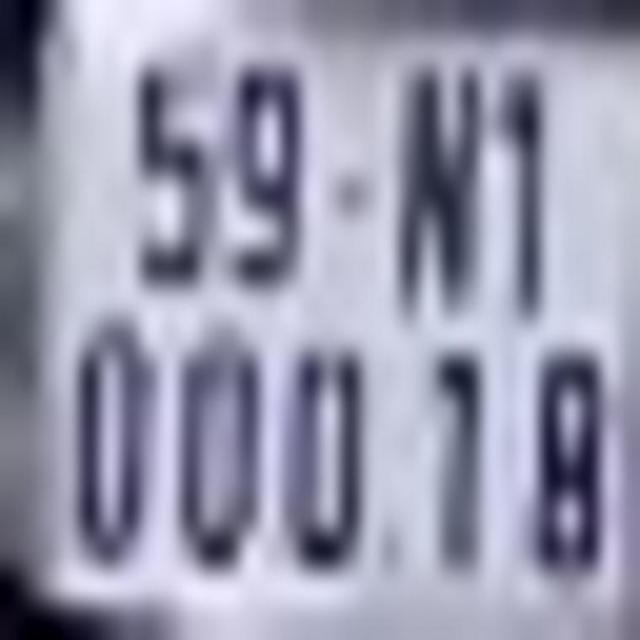0: (72, 312, 156, 554), (175, 326, 260, 564), (284, 338, 368, 567)
1: (493, 63, 555, 312), (431, 343, 489, 580)
5: (128, 57, 218, 297)
6: (230, 65, 316, 296)
8: (538, 346, 605, 581)
N: (392, 55, 490, 332)
